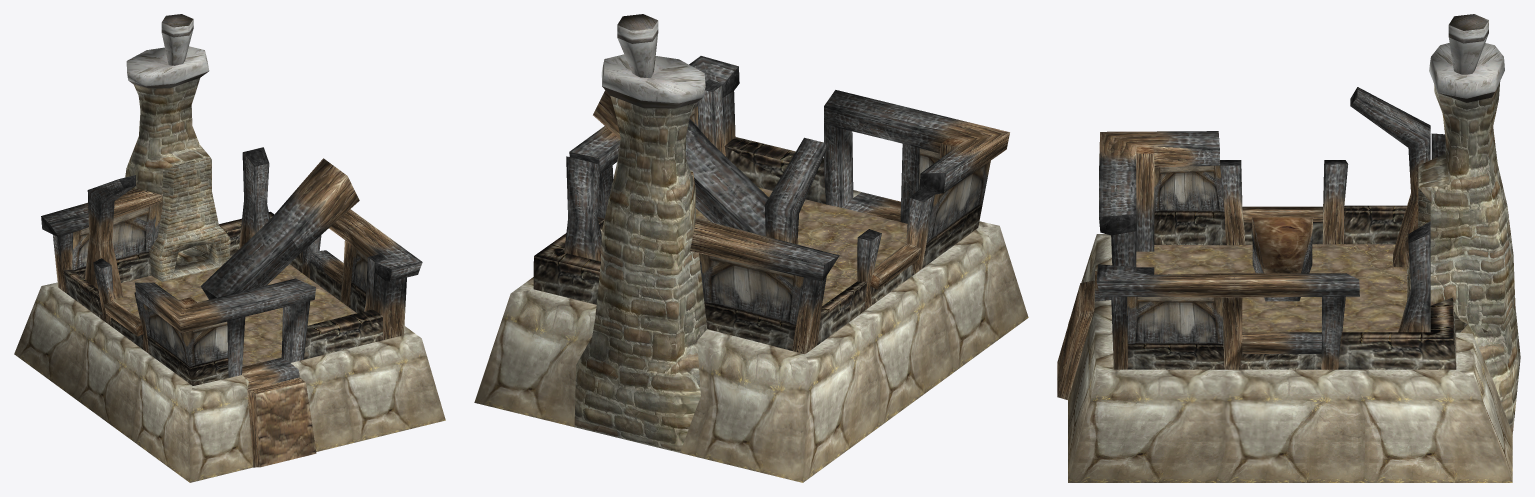
File: westfallfarmhouseburnt.glb
3 renders of one model, left to right at view 1: azimuth 30°, elevation 25°; view 2: azimuth 150°, elevation 25°; view 3: azimuth 270°, elevation 25°, orthographic. The views are drawn at different scales.
Size of the model in its own units: 14.87 by 17.23 by 18.43.
Materials: 6 (6 with a texture image).
